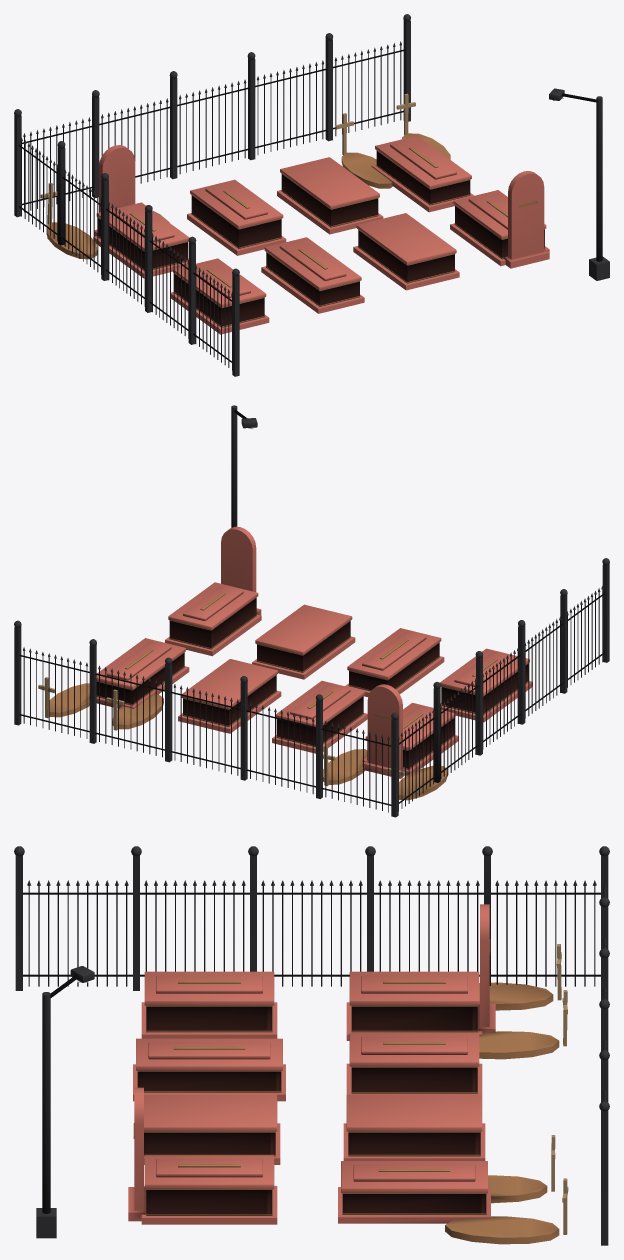
File: graveyard.glb
The picture shows the model from 3 angles, top to bottom: view 1: azimuth 30°, elevation 25°; view 2: azimuth 150°, elevation 25°; view 3: azimuth 270°, elevation 25°; orthographic projection. The views are drawn at different scales.
Visible parts, largest first — view 1: PART, DOOR_tomb2, DOOR_tomb6, DOOR_tomb5, DOOR_tomb3, DOOR_tomb1, DOOR_tomb4, DOOR_tomb0, DOOR_tomb7; view 2: PART, DOOR_tomb6, DOOR_tomb5, DOOR_tomb2, DOOR_tomb7, DOOR_tomb3, DOOR_tomb1, DOOR_tomb4, DOOR_tomb0; view 3: PART, DOOR_tomb2, DOOR_tomb6, DOOR_tomb5, DOOR_tomb3, DOOR_tomb7, DOOR_tomb0, DOOR_tomb4, DOOR_tomb1.
Boxes of the visible parts, <box> form: PART: <box>14,14,609,376</box>; DOOR_tomb2: <box>280,157,379,209</box>; DOOR_tomb6: <box>356,213,456,265</box>; DOOR_tomb5: <box>264,237,361,290</box>; DOOR_tomb3: <box>375,135,471,188</box>; DOOR_tomb1: <box>190,179,283,228</box>; DOOR_tomb4: <box>173,258,266,307</box>; DOOR_tomb0: <box>96,202,189,251</box>; DOOR_tomb7: <box>453,190,546,239</box>; PART: <box>14,405,609,817</box>; DOOR_tomb6: <box>255,604,352,655</box>; DOOR_tomb5: <box>347,628,441,679</box>; DOOR_tomb2: <box>181,659,277,709</box>; DOOR_tomb7: <box>168,582,258,630</box>; DOOR_tomb3: <box>96,638,185,689</box>; DOOR_tomb1: <box>276,680,365,726</box>; DOOR_tomb4: <box>440,648,529,695</box>; DOOR_tomb0: <box>365,703,455,750</box>; PART: <box>14,846,609,1245</box>; DOOR_tomb2: <box>346,1094,482,1131</box>; DOOR_tomb6: <box>144,1094,277,1131</box>; DOOR_tomb5: <box>136,1038,282,1070</box>; DOOR_tomb3: <box>341,1161,487,1193</box>; DOOR_tomb7: <box>144,1155,274,1189</box>; DOOR_tomb0: <box>349,971,479,1005</box>; DOOR_tomb4: <box>144,971,274,1005</box>; DOOR_tomb1: <box>349,1033,479,1066</box>.
Size of the model in its own units: 10.17 by 4.5 by 9.88.
